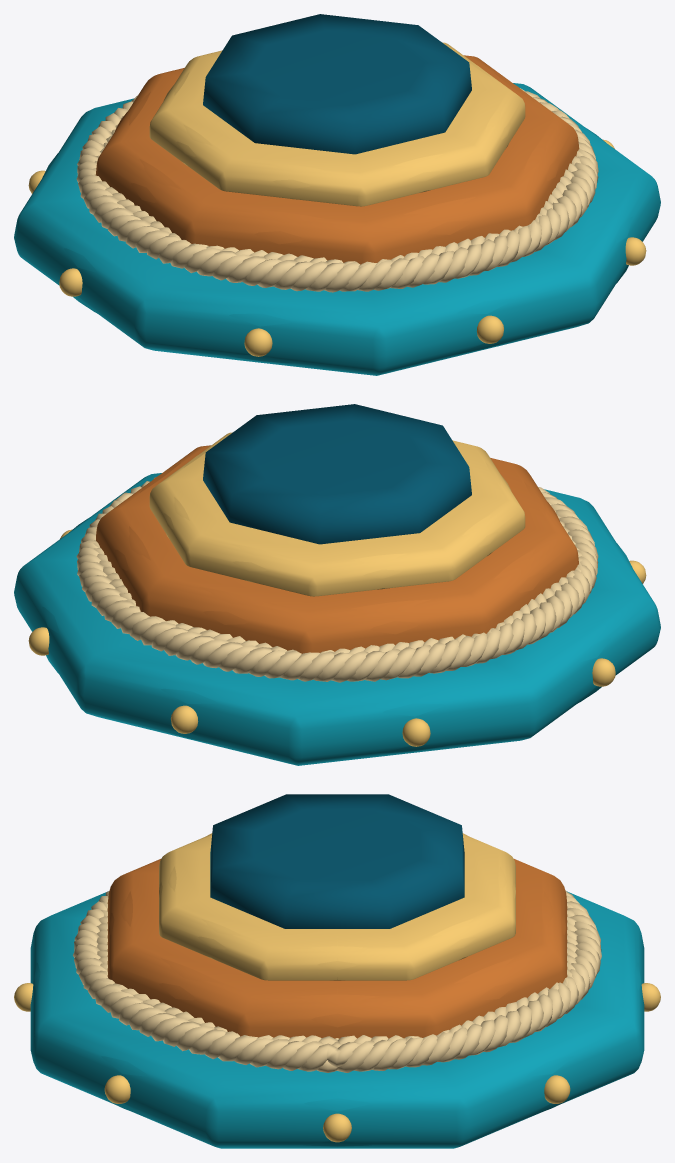
File: ayak.glb
3 renders of one model, top to bottom at view 1: azimuth 30°, elevation 25°; view 2: azimuth 150°, elevation 25°; view 3: azimuth 270°, elevation 25°, orthographic.
Visible parts, largest first — view 1: kaide.001, basamak.001, boyun.001, altin_basamak.001, taban_halat0, taban_halat1, taban_halat2, boyun, basamak, altin_basamak, kaide, taban_halat2.001 (+5 smaller); view 2: kaide.001, basamak.001, boyun.001, altin_basamak.001, taban_halat0, taban_halat1, taban_halat2, boyun, basamak, altin_basamak, kaide, taban_halat0.001 (+5 smaller); view 3: kaide.001, basamak.001, boyun.001, altin_basamak.001, taban_halat0, taban_halat2, taban_halat1, basamak, altin_basamak, kaide, boyun, taban_halat0.001 (+5 smaller).
Boxes of the visible parts, x1,y1,x2,y2 form: kaide.001: (14,83,660,375); basamak.001: (95,55,579,264); boyun.001: (203,14,471,154); altin_basamak.001: (149,42,525,206); taban_halat0: (77,88,598,292); taban_halat1: (77,91,598,291); taban_halat2: (76,97,597,291); boyun: (255,33,418,102); basamak: (115,72,559,244); altin_basamak: (163,56,511,199); kaide: (42,128,632,363); taban_halat2.001: (92,129,585,268); kaide.001: (14,473,660,765); basamak.001: (96,445,578,653); boyun.001: (203,404,471,544); altin_basamak.001: (149,432,525,596); taban_halat0: (77,477,597,681); taban_halat1: (77,486,598,682); taban_halat2: (76,481,598,681); boyun: (263,423,419,492); basamak: (115,462,559,634); altin_basamak: (163,446,511,589); kaide: (42,518,632,753); taban_halat0.001: (89,495,582,680); kaide.001: (30,891,644,1148); basamak.001: (107,859,567,1038); boyun.001: (210,794,464,928); altin_basamak.001: (159,835,515,980); taban_halat0: (74,891,601,1071); taban_halat2: (74,890,600,1072); taban_halat1: (73,895,601,1071); basamak: (108,891,566,1033); altin_basamak: (159,833,515,980); kaide: (33,962,641,1147); boyun: (255,806,418,914); taban_halat0.001: (97,909,577,1053).
Size of the model in its own units: 3.12 by 1.34 by 3.12.
